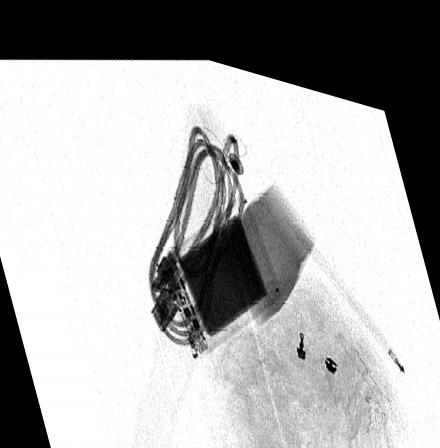Powerbank: (156, 178, 282, 349)
